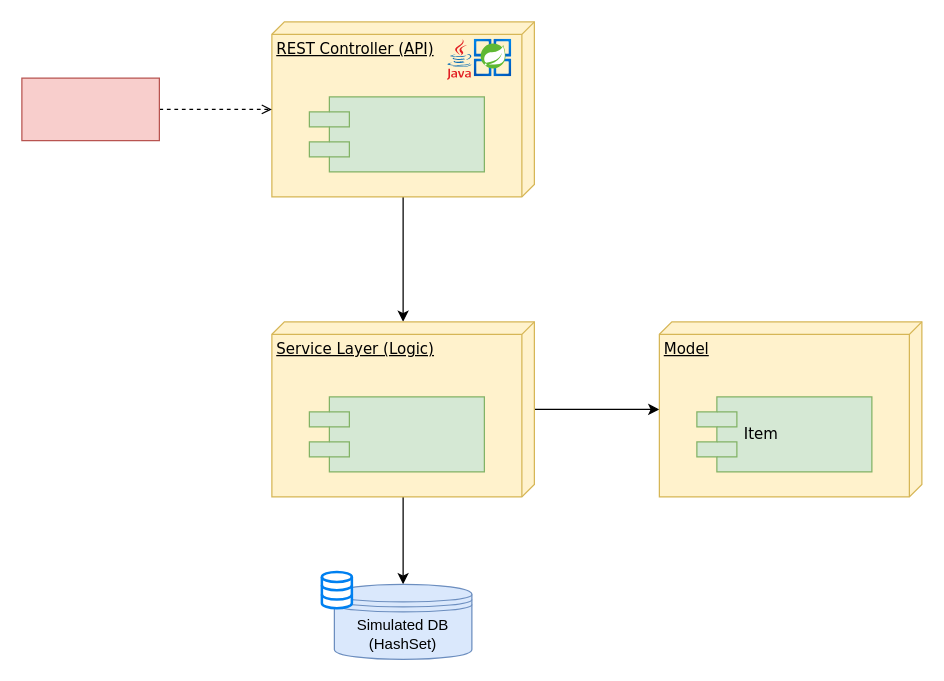
The diagram is 944 pixels wide and 681 high, and some of its shapes have lost their labels. The centre of each missing label's shape, as x and y in pixels:
"ItemController" belongs at [396,134].
"ItemService" belongs at [396,434].
"«Postman» Client" belongs at [90,109].
